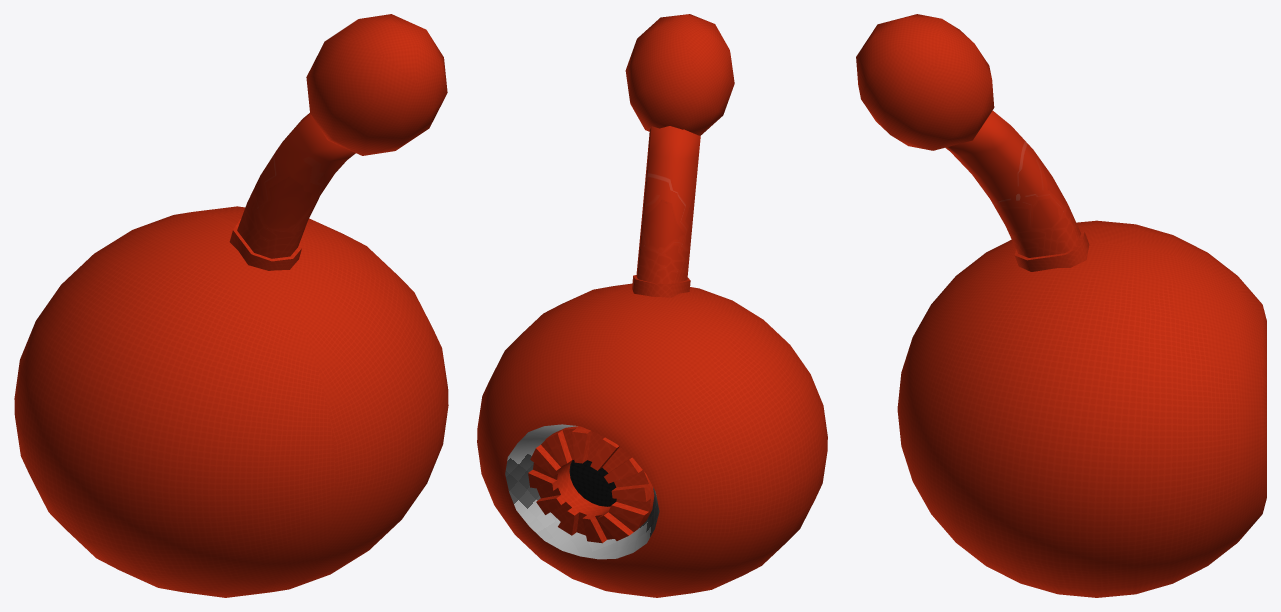
Rendered from enemy_sphere.fbx.
The picture shows the model from 3 angles, left to right: view 1: azimuth 30°, elevation 25°; view 2: azimuth 150°, elevation 25°; view 3: azimuth 270°, elevation 25°; orthographic projection. The views are drawn at different scales.
Parts seen in each view (by area): view 1: Enemy_sphere, Antenna; view 2: Enemy_sphere, Antenna; view 3: Enemy_sphere, Antenna.
Boxes of the visible parts, box(x1,y1,x2,y2) form: Enemy_sphere: box(14, 206, 448, 597); Antenna: box(229, 14, 447, 270); Enemy_sphere: box(477, 283, 827, 597); Antenna: box(625, 14, 734, 297); Enemy_sphere: box(897, 220, 1266, 597); Antenna: box(856, 14, 1089, 271).
Size of the model in its own units: 267 by 409 by 260.
Materials: 4 (4 with a texture image).
